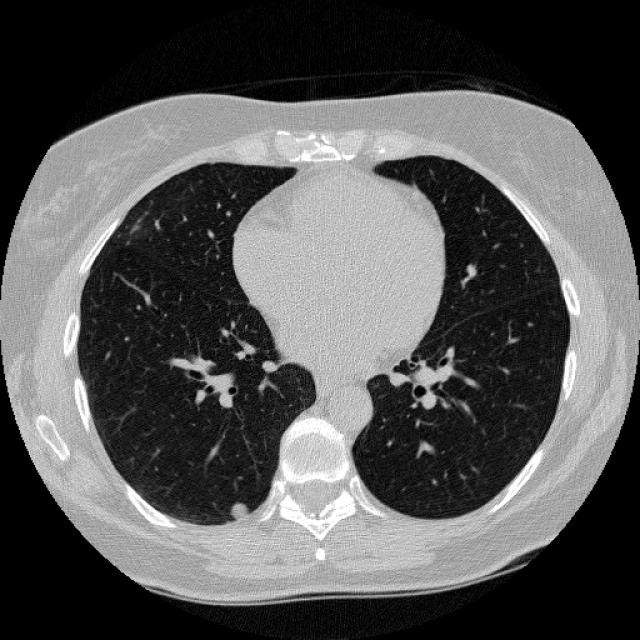nodule: (223, 493, 255, 525)
